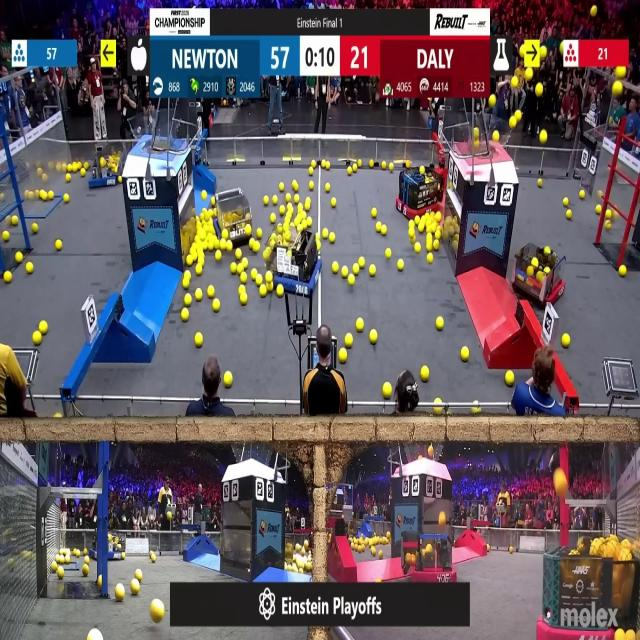ball_airborne: (555, 471, 566, 498), (614, 82, 624, 99), (525, 68, 534, 81), (535, 85, 543, 99), (618, 66, 626, 80), (539, 130, 547, 144), (440, 513, 447, 527), (591, 5, 598, 17), (490, 95, 496, 108), (513, 76, 519, 88), (492, 132, 500, 141), (511, 117, 517, 128), (428, 447, 434, 458), (540, 46, 546, 57), (517, 110, 522, 122), (520, 45, 525, 57), (605, 210, 611, 220), (533, 56, 539, 66), (472, 129, 478, 137), (168, 513, 173, 522)
ball_ground: (150, 600, 164, 622), (115, 585, 124, 602), (223, 372, 232, 388), (383, 383, 392, 398), (132, 581, 140, 597), (505, 372, 514, 386), (341, 348, 348, 364), (34, 333, 42, 347), (562, 335, 570, 349), (346, 335, 354, 349), (195, 334, 202, 349), (422, 366, 430, 379), (461, 348, 468, 362), (369, 331, 376, 345), (212, 300, 220, 312), (208, 285, 215, 298), (181, 309, 188, 322), (438, 317, 445, 330), (356, 319, 363, 332), (240, 293, 248, 304), (341, 267, 349, 278), (183, 293, 190, 305), (277, 285, 284, 297), (368, 266, 375, 278), (136, 568, 143, 580), (259, 285, 266, 297), (195, 288, 202, 300), (198, 335, 205, 347), (621, 266, 628, 278), (267, 273, 274, 284), (195, 266, 202, 277), (198, 253, 205, 264), (241, 261, 248, 272), (265, 248, 272, 259), (306, 198, 312, 210), (6, 272, 12, 284), (237, 248, 243, 260), (432, 240, 438, 252), (348, 276, 356, 285), (15, 252, 22, 262), (182, 279, 189, 289), (27, 264, 34, 274), (331, 264, 338, 274), (241, 273, 247, 284), (386, 248, 392, 259), (57, 240, 63, 251), (328, 233, 334, 244), (397, 261, 403, 272), (250, 240, 256, 251), (357, 322, 363, 333), (240, 284, 247, 293), (434, 408, 441, 417), (32, 222, 38, 232), (231, 265, 237, 275), (64, 192, 70, 202), (215, 250, 221, 260), (370, 208, 376, 218), (58, 238, 64, 248), (251, 270, 257, 280), (60, 566, 65, 578), (353, 266, 359, 276), (186, 254, 192, 264), (286, 204, 292, 214), (358, 257, 364, 267), (382, 224, 388, 234), (471, 408, 478, 416), (428, 252, 433, 263), (83, 564, 88, 575), (66, 173, 72, 182), (47, 190, 53, 199), (40, 190, 46, 199), (4, 233, 10, 242), (279, 206, 285, 215), (271, 213, 277, 222), (427, 243, 433, 252), (566, 211, 572, 220), (377, 222, 382, 232), (256, 229, 261, 239), (186, 309, 191, 319), (323, 231, 328, 241), (256, 275, 261, 285), (564, 198, 569, 208), (415, 244, 421, 252), (434, 232, 440, 240), (420, 223, 426, 231), (279, 182, 284, 191), (150, 554, 155, 563), (316, 233, 321, 242), (183, 272, 190, 278), (265, 197, 270, 205), (309, 218, 313, 228), (273, 197, 278, 205), (410, 230, 415, 238), (244, 257, 248, 267), (331, 199, 335, 208), (348, 167, 352, 176), (377, 576, 382, 583), (80, 170, 85, 177), (358, 544, 363, 551), (99, 575, 102, 586), (368, 162, 372, 170), (538, 179, 542, 187), (66, 556, 70, 564), (203, 190, 207, 198), (76, 549, 80, 557), (380, 551, 384, 558), (353, 166, 357, 173), (83, 163, 87, 170), (568, 212, 572, 218), (387, 532, 391, 538), (121, 553, 124, 560), (85, 568, 88, 574), (388, 162, 390, 169)
goal: (462, 117, 515, 158), (130, 117, 188, 151)
robot_blue: (270, 231, 322, 296), (213, 190, 253, 247), (90, 524, 126, 563), (89, 150, 120, 188)
robot_red: (537, 543, 640, 640), (515, 246, 564, 308), (414, 519, 456, 584), (398, 164, 444, 217)
